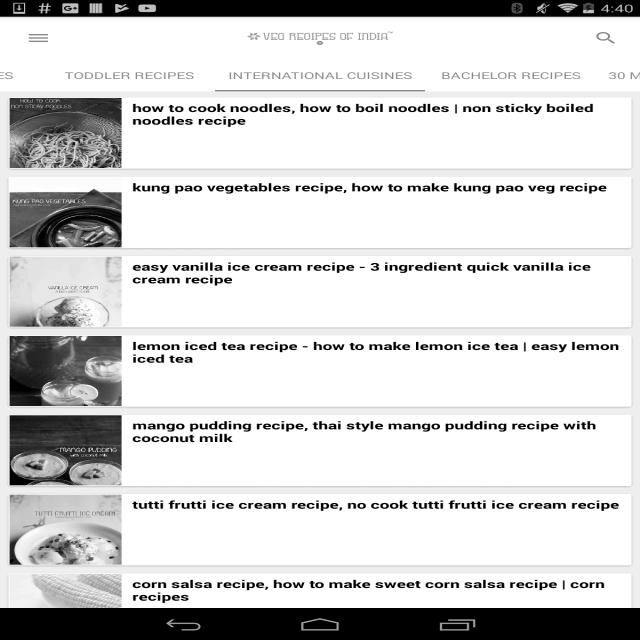ImageButton: (9, 17, 68, 59)
ImageView: (10, 98, 121, 168), (10, 178, 121, 248), (10, 256, 121, 326), (10, 336, 121, 406), (10, 416, 121, 486), (10, 494, 121, 564), (10, 574, 121, 640), (245, 17, 395, 59), (580, 22, 632, 54)
TextView: (126, 100, 626, 128), (126, 338, 626, 366), (126, 576, 626, 604), (126, 418, 626, 445), (126, 260, 626, 286), (126, 497, 626, 512), (126, 180, 626, 194), (228, 69, 412, 82), (441, 69, 580, 82), (65, 69, 194, 82), (608, 69, 640, 81), (0, 69, 13, 81)
